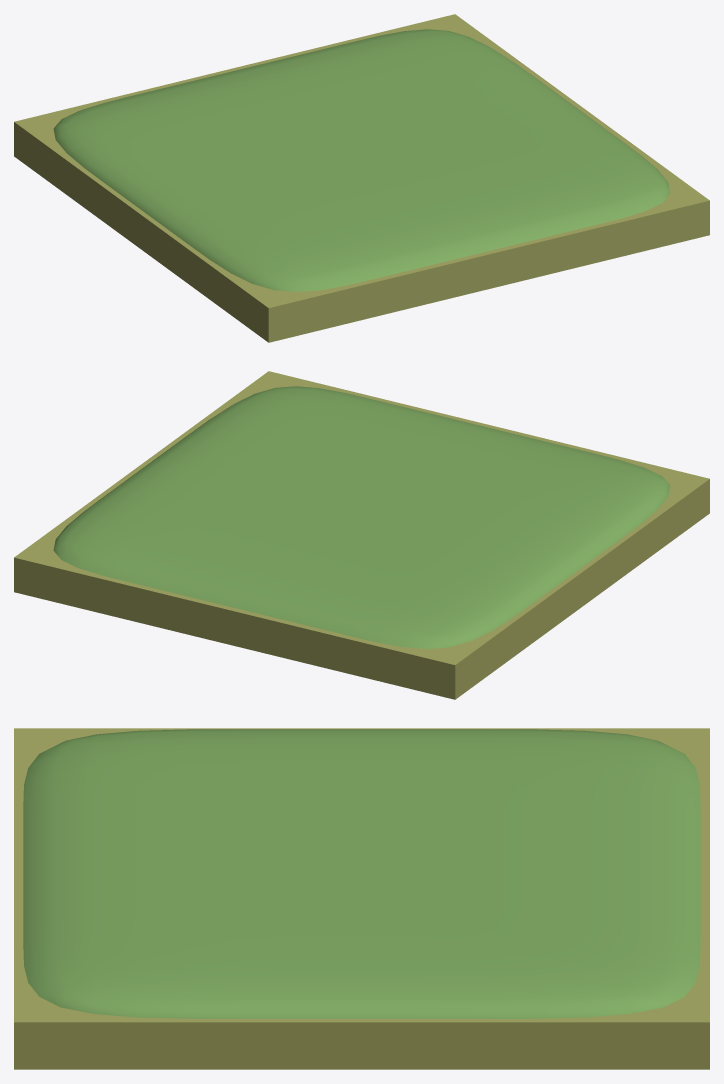
Rendered from ground.glb.
3 views of the same model, one above another, from view 1: azimuth 30°, elevation 25°; view 2: azimuth 150°, elevation 25°; view 3: azimuth 270°, elevation 25° (orthographic). The views are drawn at different scales.
Visible parts, largest first — view 1: ground, earth; view 2: ground, earth; view 3: ground, earth.
Boxes of the visible parts, bbox=[...] form: ground: bbox=[53, 29, 670, 291]; earth: bbox=[14, 14, 709, 342]; ground: bbox=[53, 386, 670, 648]; earth: bbox=[14, 371, 709, 699]; ground: bbox=[23, 729, 700, 1018]; earth: bbox=[14, 728, 709, 1069].
Bounding box in the file's own units: 2 × 0.2 × 2.
